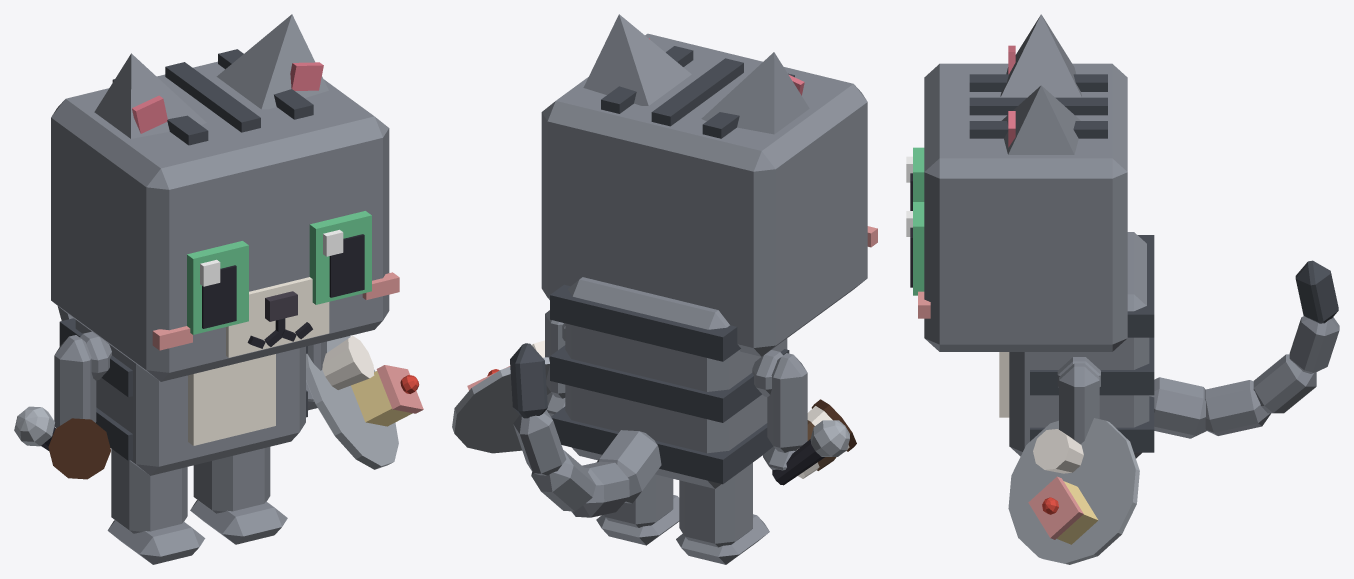
The model's file is CatCafe_Cat_Pipes_Work.glb.
3 renders of one model, left to right at view 1: azimuth 30°, elevation 25°; view 2: azimuth 150°, elevation 25°; view 3: azimuth 270°, elevation 25°, orthographic. The views are drawn at different scales.
Visible parts, largest first — view 1: CatCafe_Cat_Pipes_Work_Head, CatCafe_Cat_Pipes_Work_Body, CatCafe_Cat_Pipes_Work_Held_Waiter, CatCafe_Cat_Pipes_Work_LegB2, CatCafe_Cat_Pipes_Work_LegB1, CatCafe_Cat_Pipes_Work_EarL, CatCafe_Cat_Pipes_Work_Eye1, CatCafe_Cat_Pipes_Work_Eye2, CatCafe_Cat_Pipes_Work_EarR, CatCafe_Cat_Pipes_Work_LegF2, CatCafe_Cat_Pipes_Work_Held_Barista, CatCafe_Cat_Pipes_Work_Held_Entertainer (+1 smaller); view 2: CatCafe_Cat_Pipes_Work_Head, CatCafe_Cat_Pipes_Work_Body, CatCafe_Cat_Pipes_Work_Tail, CatCafe_Cat_Pipes_Work_LegB2, CatCafe_Cat_Pipes_Work_EarL, CatCafe_Cat_Pipes_Work_Held_Waiter, CatCafe_Cat_Pipes_Work_EarR, CatCafe_Cat_Pipes_Work_LegF2, CatCafe_Cat_Pipes_Work_LegB1, CatCafe_Cat_Pipes_Work_Held_Entertainer, CatCafe_Cat_Pipes_Work_LegF1, CatCafe_Cat_Pipes_Work_Held_Barista; view 3: CatCafe_Cat_Pipes_Work_Head, CatCafe_Cat_Pipes_Work_Held_Waiter, CatCafe_Cat_Pipes_Work_Body, CatCafe_Cat_Pipes_Work_Tail, CatCafe_Cat_Pipes_Work_EarR, CatCafe_Cat_Pipes_Work_EarL, CatCafe_Cat_Pipes_Work_LegF1, CatCafe_Cat_Pipes_Work_Eye1, CatCafe_Cat_Pipes_Work_Eye2.
Part boxes in pixels (x1,y1,x2,y2): CatCafe_Cat_Pipes_Work_Head: (51,49,399,381); CatCafe_Cat_Pipes_Work_Body: (59,318,307,475); CatCafe_Cat_Pipes_Work_Held_Waiter: (306,335,423,469); CatCafe_Cat_Pipes_Work_LegB2: (107,449,205,564); CatCafe_Cat_Pipes_Work_LegB1: (190,447,287,544); CatCafe_Cat_Pipes_Work_EarL: (216,14,328,109); CatCafe_Cat_Pipes_Work_Eye1: (309,211,371,304); CatCafe_Cat_Pipes_Work_Eye2: (187,241,248,334); CatCafe_Cat_Pipes_Work_EarR: (94,53,206,138); CatCafe_Cat_Pipes_Work_LegF2: (54,335,96,427); CatCafe_Cat_Pipes_Work_Held_Barista: (48,418,110,479); CatCafe_Cat_Pipes_Work_Held_Entertainer: (14,406,55,450); CatCafe_Cat_Pipes_Work_Head: (541,33,877,356); CatCafe_Cat_Pipes_Work_Body: (550,277,789,488); CatCafe_Cat_Pipes_Work_Tail: (510,343,661,517); CatCafe_Cat_Pipes_Work_LegB2: (676,462,769,564); CatCafe_Cat_Pipes_Work_EarL: (583,14,691,105); CatCafe_Cat_Pipes_Work_Held_Waiter: (452,340,550,453); CatCafe_Cat_Pipes_Work_EarR: (701,52,809,134); CatCafe_Cat_Pipes_Work_LegF2: (763,353,807,470); CatCafe_Cat_Pipes_Work_LegB1: (596,474,679,545); CatCafe_Cat_Pipes_Work_Held_Entertainer: (772,420,849,485); CatCafe_Cat_Pipes_Work_LegF1: (545,310,565,416); CatCafe_Cat_Pipes_Work_Held_Barista: (797,399,856,478); CatCafe_Cat_Pipes_Work_Head: (918,63,1127,351); CatCafe_Cat_Pipes_Work_Held_Waiter: (1008,418,1139,564); CatCafe_Cat_Pipes_Work_Body: (999,232,1154,458); CatCafe_Cat_Pipes_Work_Tail: (1149,260,1339,438); CatCafe_Cat_Pipes_Work_EarR: (1000,14,1081,97); CatCafe_Cat_Pipes_Work_EarL: (1001,85,1080,154); CatCafe_Cat_Pipes_Work_LegF1: (1059,363,1099,444); CatCafe_Cat_Pipes_Work_Eye1: (906,202,924,295); CatCafe_Cat_Pipes_Work_Eye2: (906,147,924,210).
Size of the model in its own units: 1.53 by 1.93 by 1.62.
Materials: 1 (1 with a texture image).
